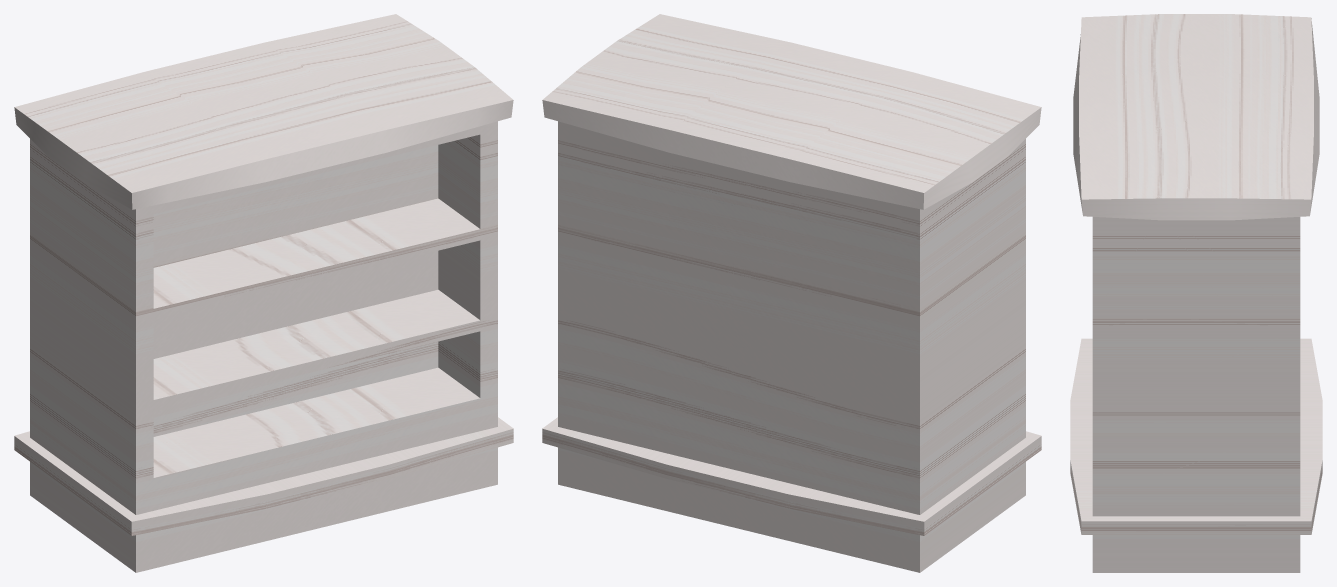
File: bookcase_empty_new.fbx
The picture shows the model from 3 angles, left to right: view 1: azimuth 30°, elevation 25°; view 2: azimuth 150°, elevation 25°; view 3: azimuth 270°, elevation 25°; orthographic projection. The views are drawn at different scales.
Visible parts, largest first — view 1: bookshelf_new_text:pCube1; view 2: bookshelf_new_text:pCube1; view 3: bookshelf_new_text:pCube1.
Boxes of the visible parts, left/top/right/bottom form: bookshelf_new_text:pCube1: left=14, top=14, right=513, bottom=572; bookshelf_new_text:pCube1: left=542, top=14, right=1041, bottom=572; bookshelf_new_text:pCube1: left=1070, top=14, right=1322, bottom=572.
Size of the model in its own units: 2.17 by 2.06 by 1.22.
1 material, 1 textured.
